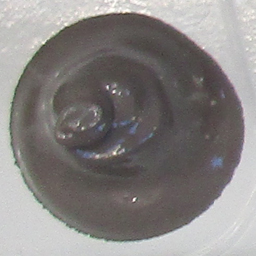perfect: (8, 10, 248, 245)
